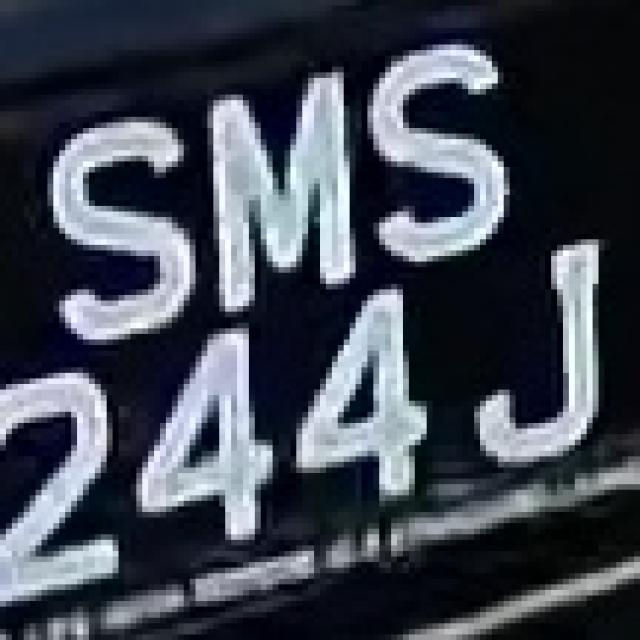2: (0, 356, 136, 623)
4: (266, 262, 444, 518), (130, 323, 290, 540)
J: (468, 251, 610, 478)
M: (190, 72, 379, 323)
S: (362, 34, 516, 278), (47, 111, 202, 351)
